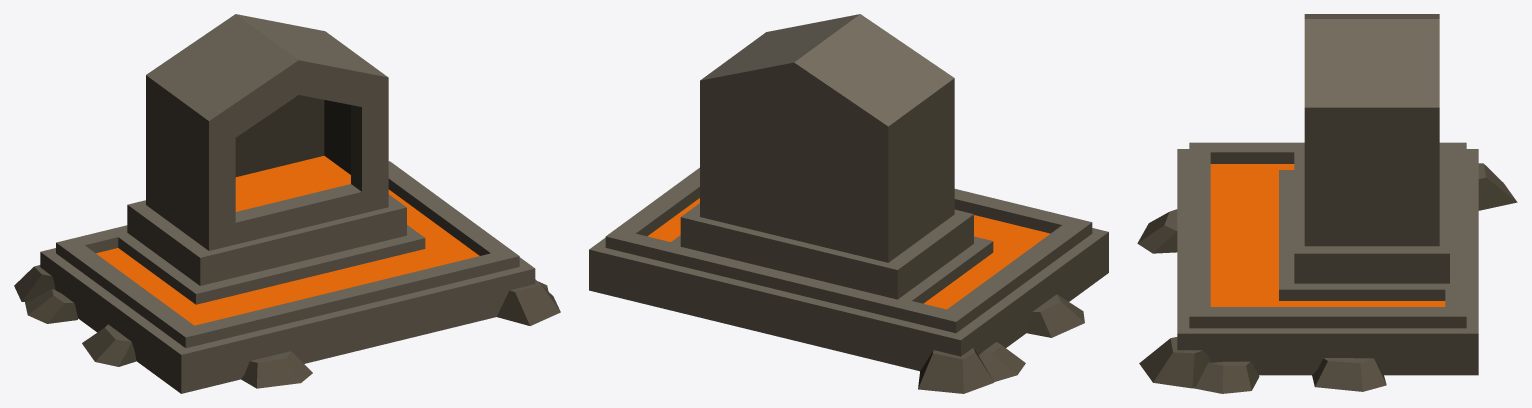
Rendered from SF_Prop_Undead_Forge_01.fbx.
3 renders of one model, left to right at view 1: azimuth 30°, elevation 25°; view 2: azimuth 150°, elevation 25°; view 3: azimuth 270°, elevation 25°, orthographic. The views are drawn at different scales.
Parts seen in each view (by area): view 1: SF_Prop_Undead_Forge_01; view 2: SF_Prop_Undead_Forge_01; view 3: SF_Prop_Undead_Forge_01.
Boxes of the visible parts, box(x1,y1,x2,y2) form: SF_Prop_Undead_Forge_01: box(14, 14, 560, 393); SF_Prop_Undead_Forge_01: box(589, 14, 1108, 393); SF_Prop_Undead_Forge_01: box(1137, 14, 1517, 393).
Bounding box in the file's own units: 5.52 × 3.12 × 4.05.
